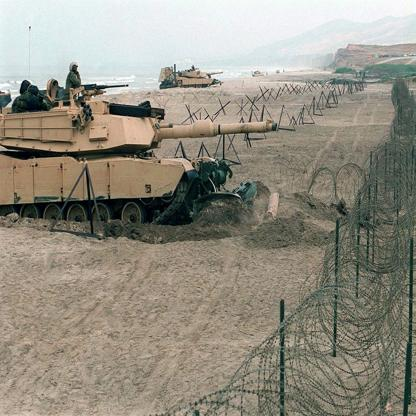Tank: (1, 80, 283, 241), (152, 61, 226, 95)
